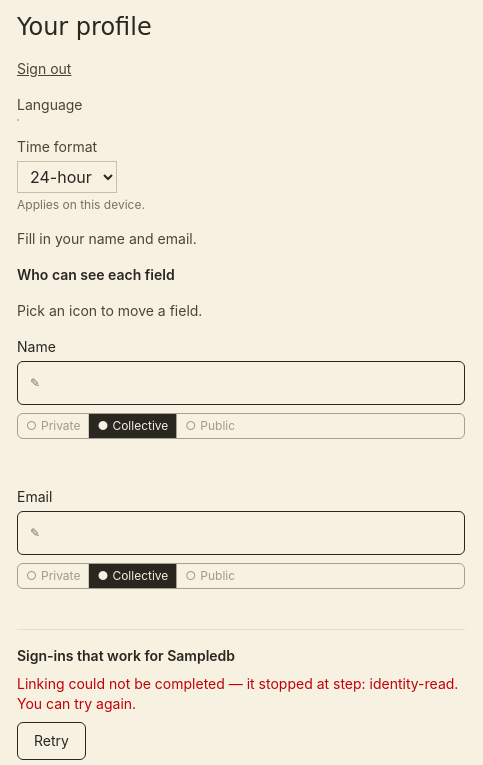
Test case: /profile v2 — save failure shows per-field error › a rejected autosave shows an error under the field
The image size is (483, 765).
Expected: the element with test id "profile-field-name" is shown, [17, 337, 465, 463]
Step 1. Click the button with test id "profile-name-edit" → coordinates (62, 392), box [17, 361, 465, 405]
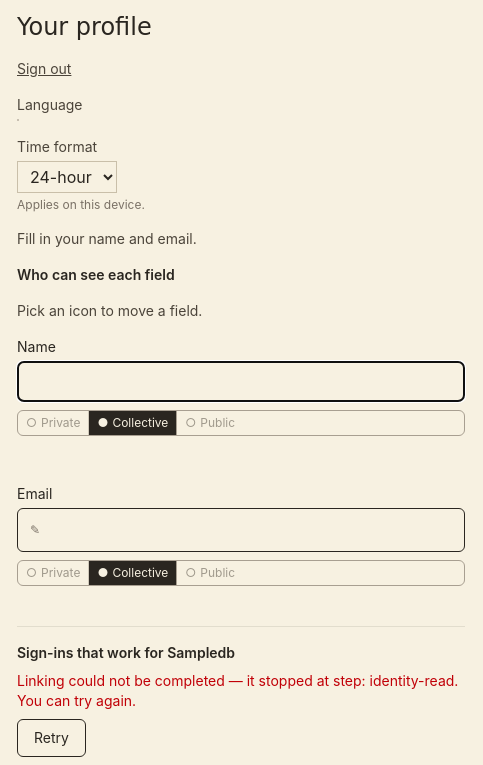
Step 2. Type "Ada" into the field labelled "Name" → coordinates (241, 381), box [17, 361, 465, 402]
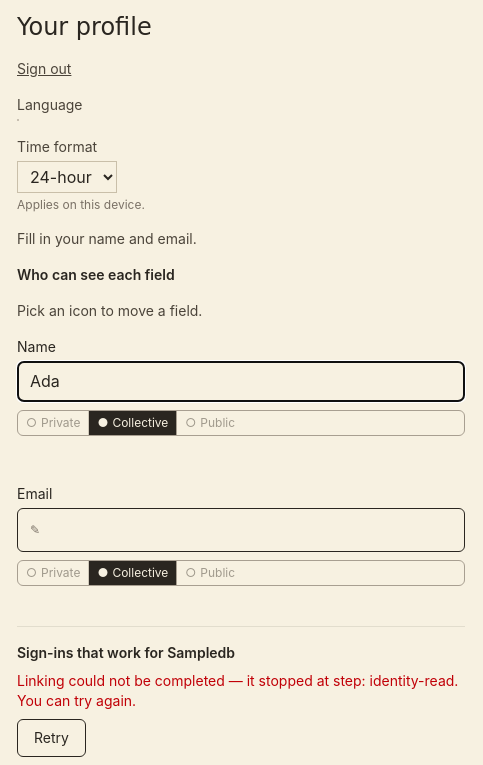
Step 3. Leave the field labelled "Name", box [17, 361, 465, 402]
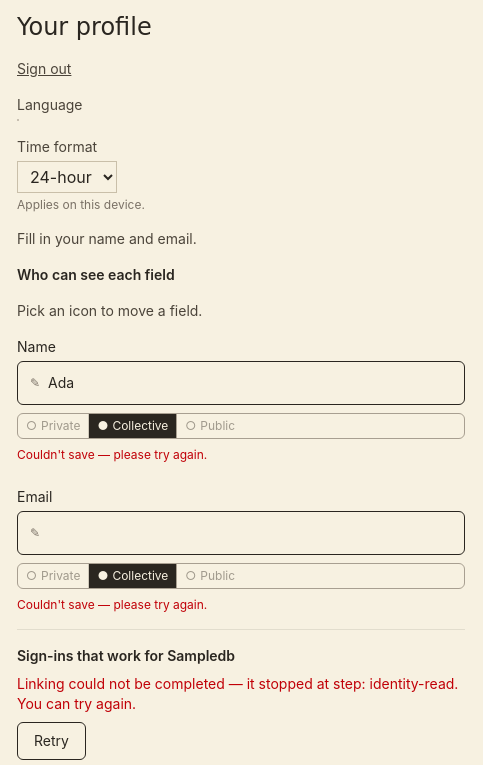
Result: the message with test id "profile-name-error" is shown at [17, 447, 207, 462]
Result: the text "Ada" is shown at [48, 374, 74, 391]
